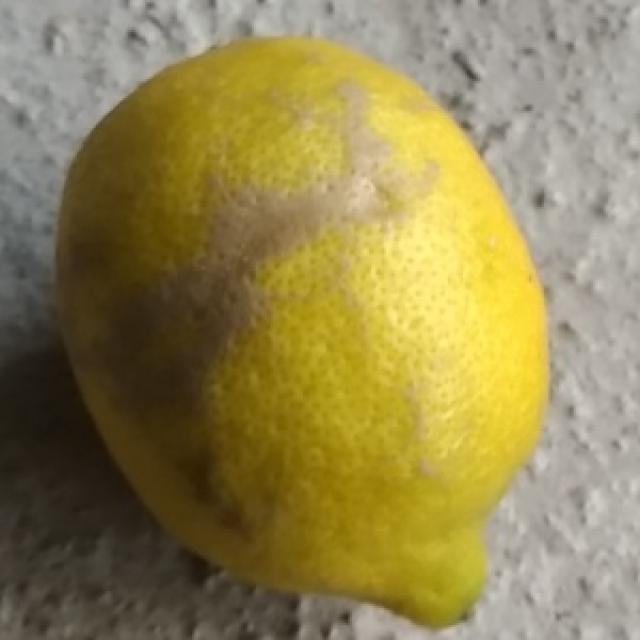overripe: (50, 27, 558, 631)
